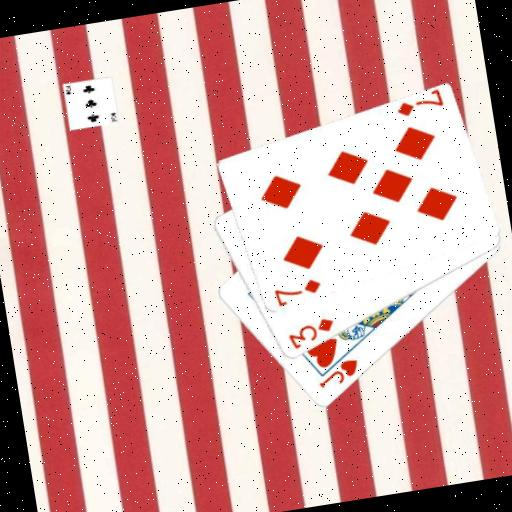3D: (282, 314, 337, 352)
7D: (269, 275, 324, 307), (391, 88, 445, 120)
JH: (312, 355, 362, 391)
